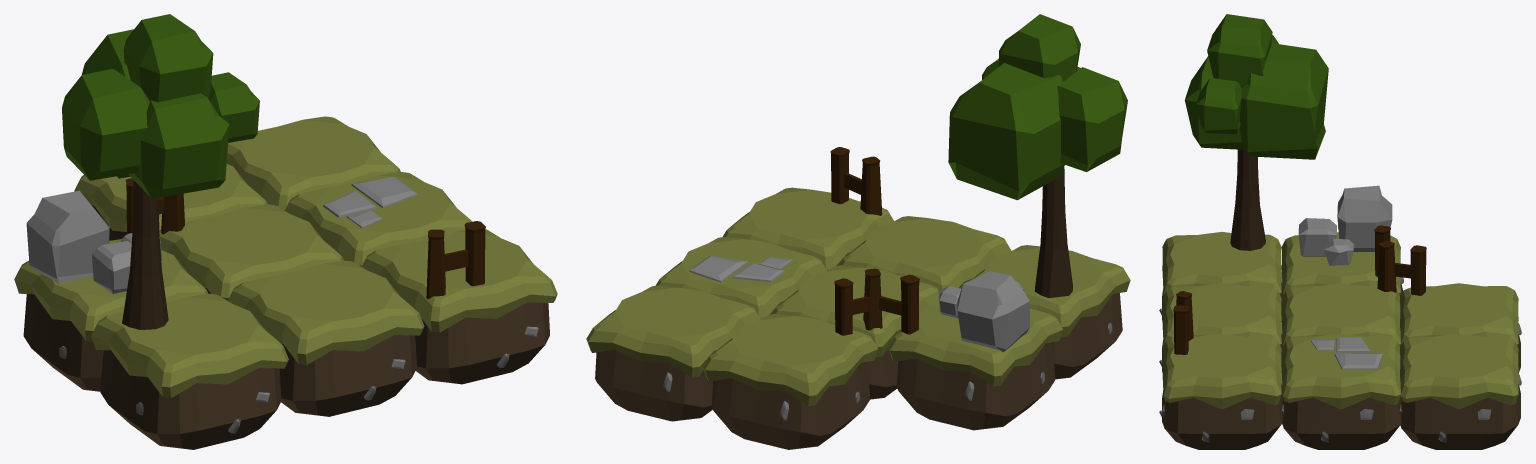
The model's file is stplatform.fbx.
3 renders of one model, left to right at view 1: azimuth 30°, elevation 25°; view 2: azimuth 150°, elevation 25°; view 3: azimuth 270°, elevation 25°, orthographic. The views are drawn at different scales.
Visible parts, largest first — view 1: Cube.001; view 2: Cube.001; view 3: Cube.001.
Boxes of the visible parts, x1,y1,x2,y2 form: Cube.001: (14,14,557,449); Cube.001: (586,14,1130,449); Cube.001: (1159,14,1521,449).
Size of the model in its own units: 15.53 by 13.34 by 14.4.
